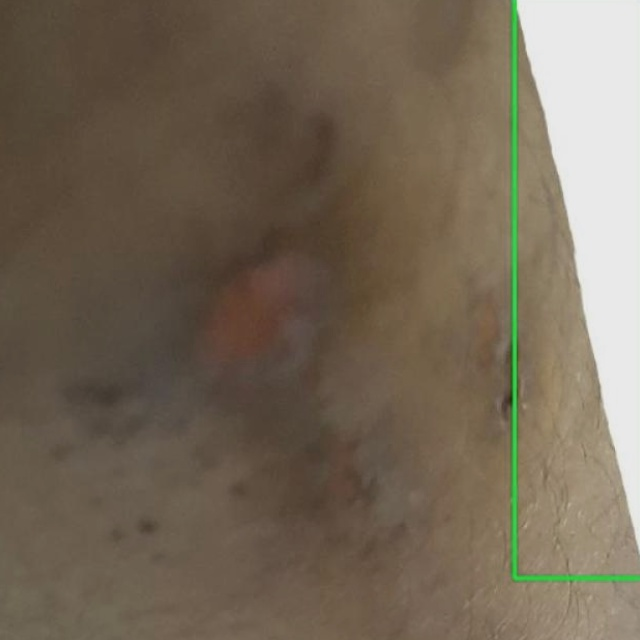Atopic Dermatitis: (514, 0, 639, 577)
